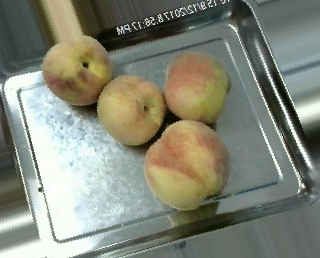Peach: (144, 119, 229, 211), (42, 32, 113, 107), (97, 73, 165, 145), (162, 51, 229, 122)
